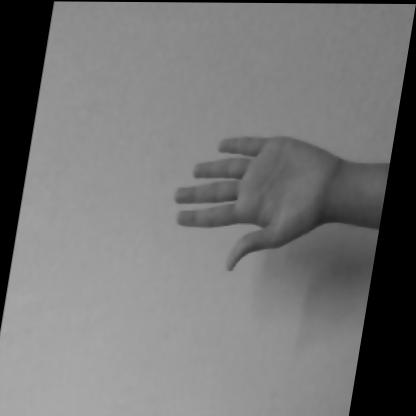palm: (158, 105, 379, 282)
